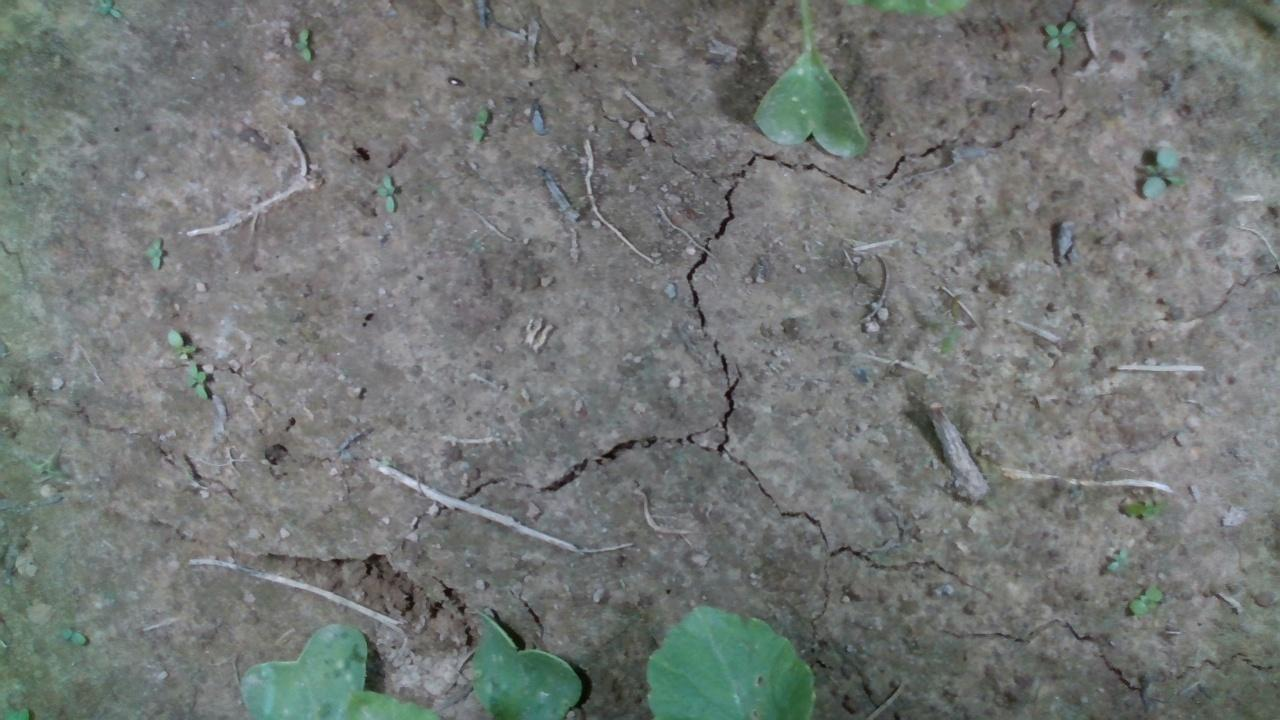weed: (1140, 143, 1182, 199), (1041, 19, 1077, 50), (1126, 585, 1161, 615), (184, 359, 207, 402), (374, 172, 395, 215), (290, 25, 311, 60), (469, 106, 487, 142), (145, 234, 163, 269)
